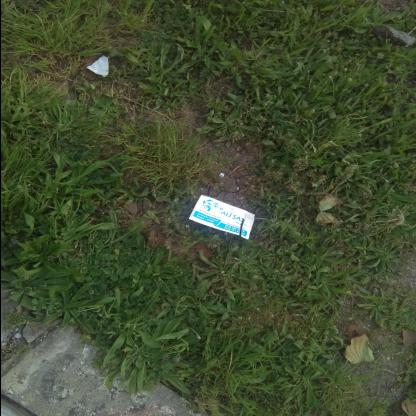kagit: (187, 194, 255, 239)
